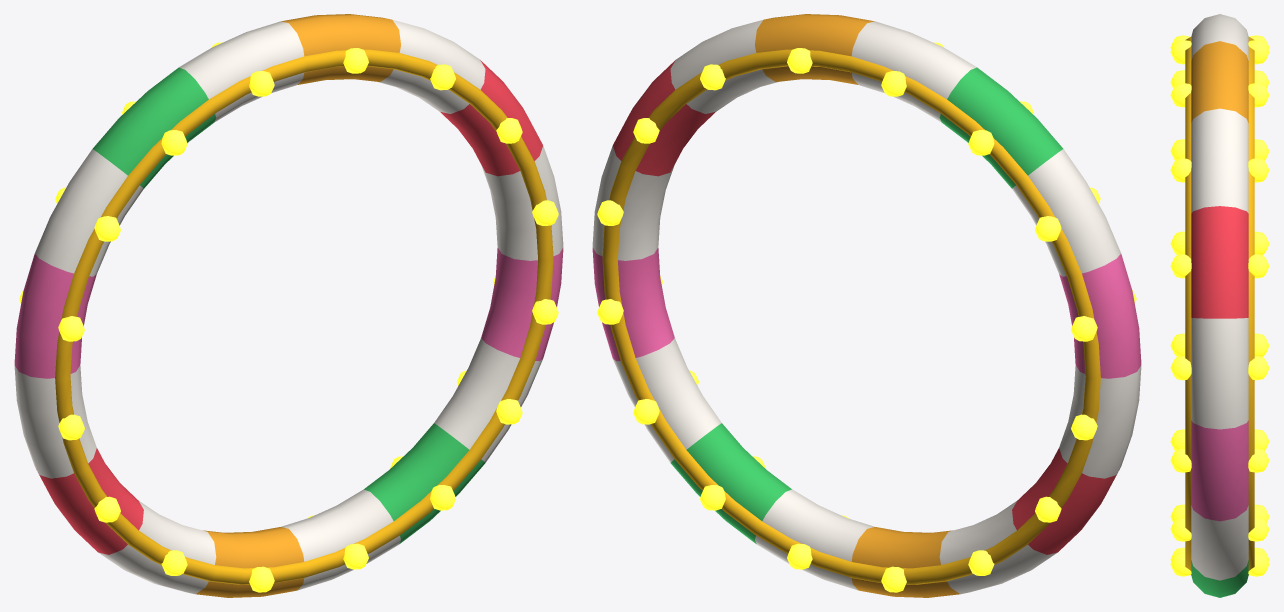
Rendered from arch.glb.
3 views of the same model, side by side, from view 1: azimuth 30°, elevation 25°; view 2: azimuth 150°, elevation 25°; view 3: azimuth 270°, elevation 25° (orthographic). The views are drawn at different scales.
Parts seen in each view (by area): view 1: Arch; view 2: Arch; view 3: Arch.
Boxes of the visible parts, left/top/right/bottom form: Arch: left=14, top=14, right=563, bottom=597; Arch: left=592, top=14, right=1141, bottom=597; Arch: left=1170, top=14, right=1269, bottom=597.
Size of the model in its own units: 24.6 by 24.6 by 4.18.
